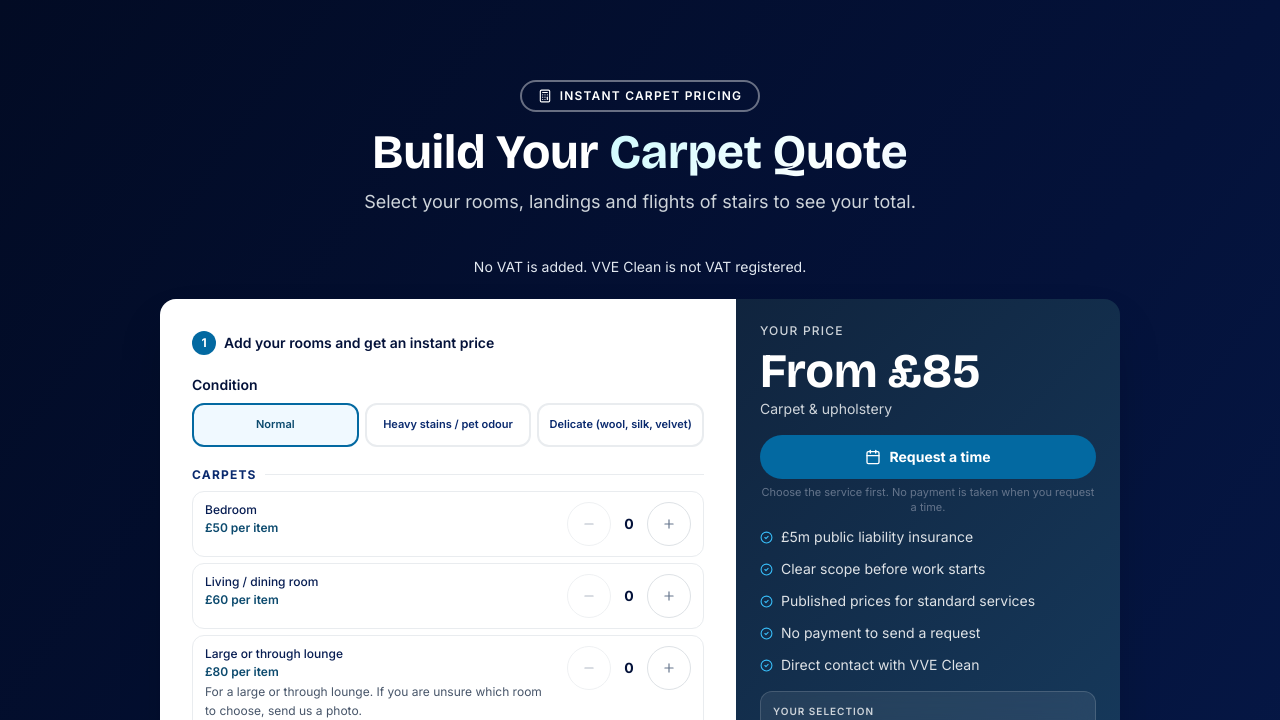
Scenario: Carpet page quote — carpet only › prices a carpet-only selection exactly as before
Click the button named "Increase Living / dining room quantity".
click(669, 596)  # box [647, 574, 691, 618]
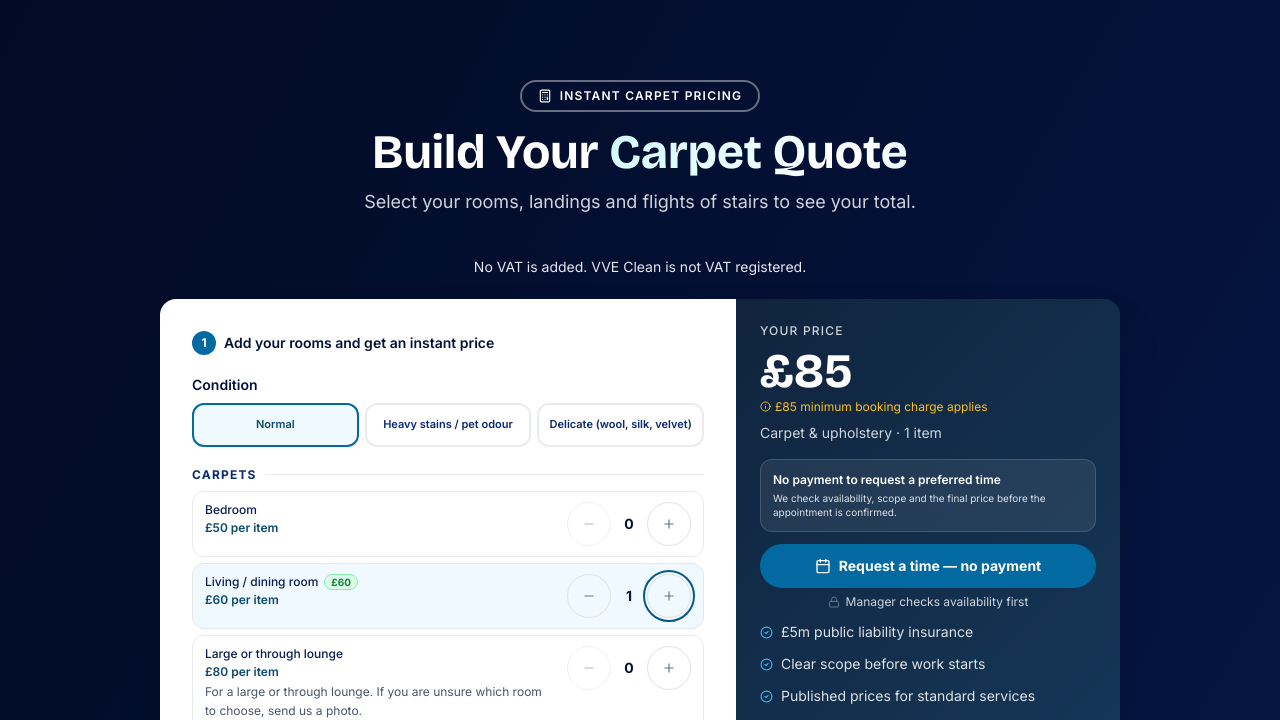
Click the button named "Increase Bedroom quantity".
click(669, 524)  # box [647, 502, 691, 546]
(page scrolled)
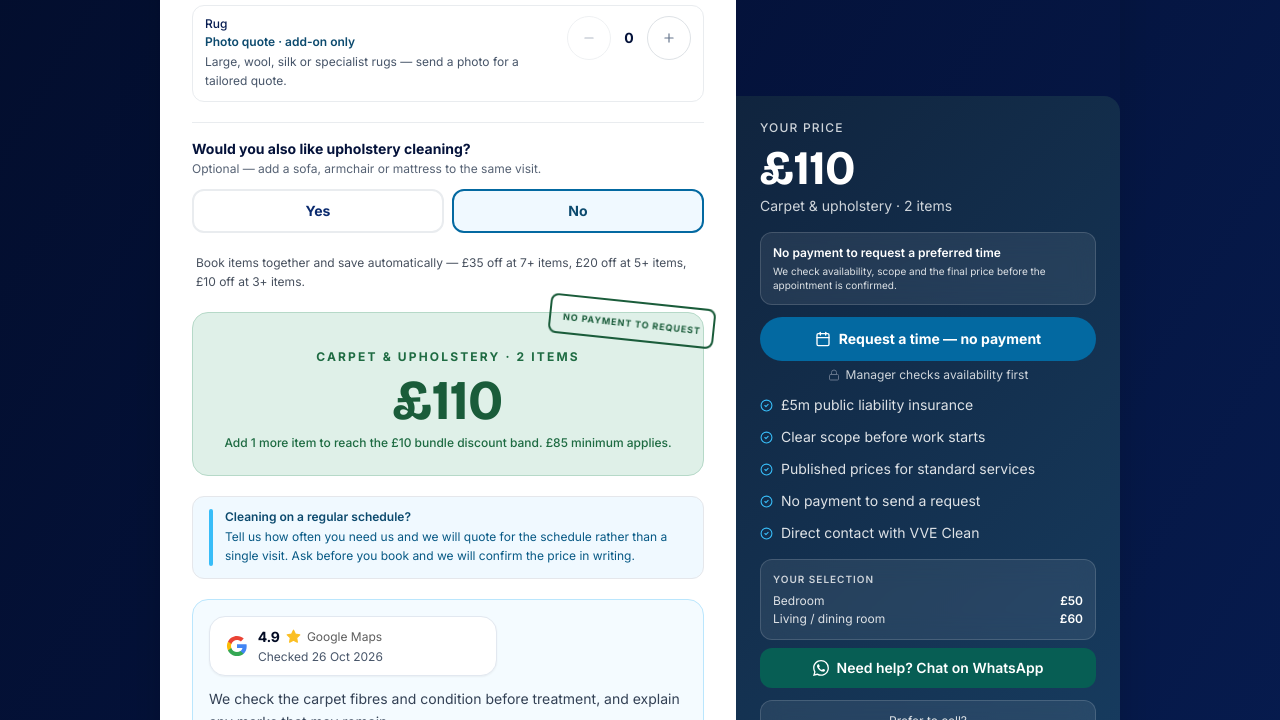
Now the text "£110" below "Would you also like upholstery cleaning?" is shown, box [393, 367, 503, 434]
